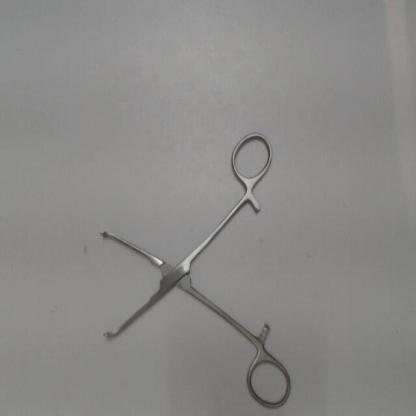Allis Tissue Forceps: (97, 125, 298, 412)
